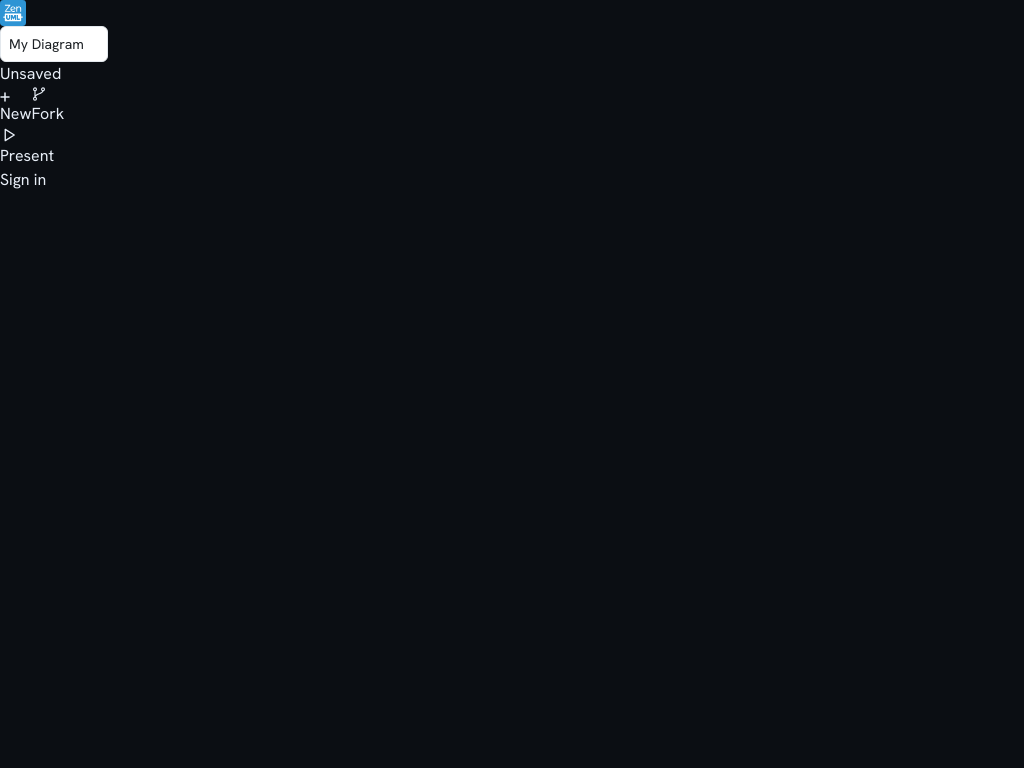
Test: AppHeader › cancel on the failed-save dialog keeps the diagram and a later New saves again (#952)
Click the button with test id "header-new": (16, 109) [0, 92, 31, 126]
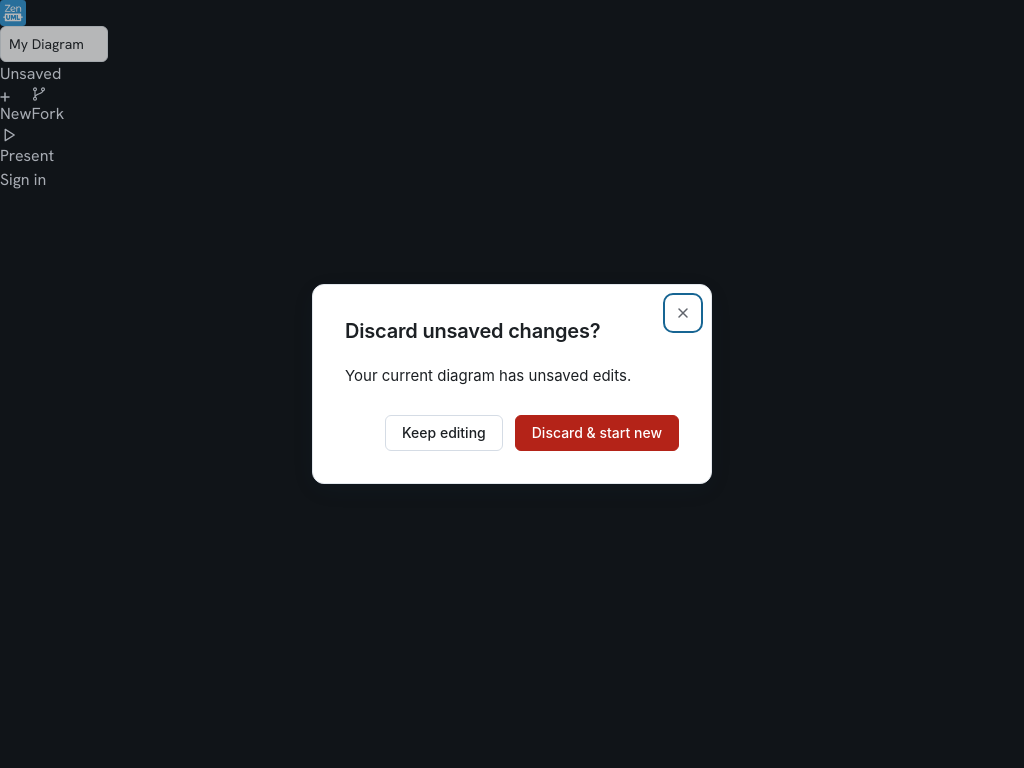
Click the button with test id "confirm-cancel": (444, 433) [385, 415, 503, 451]
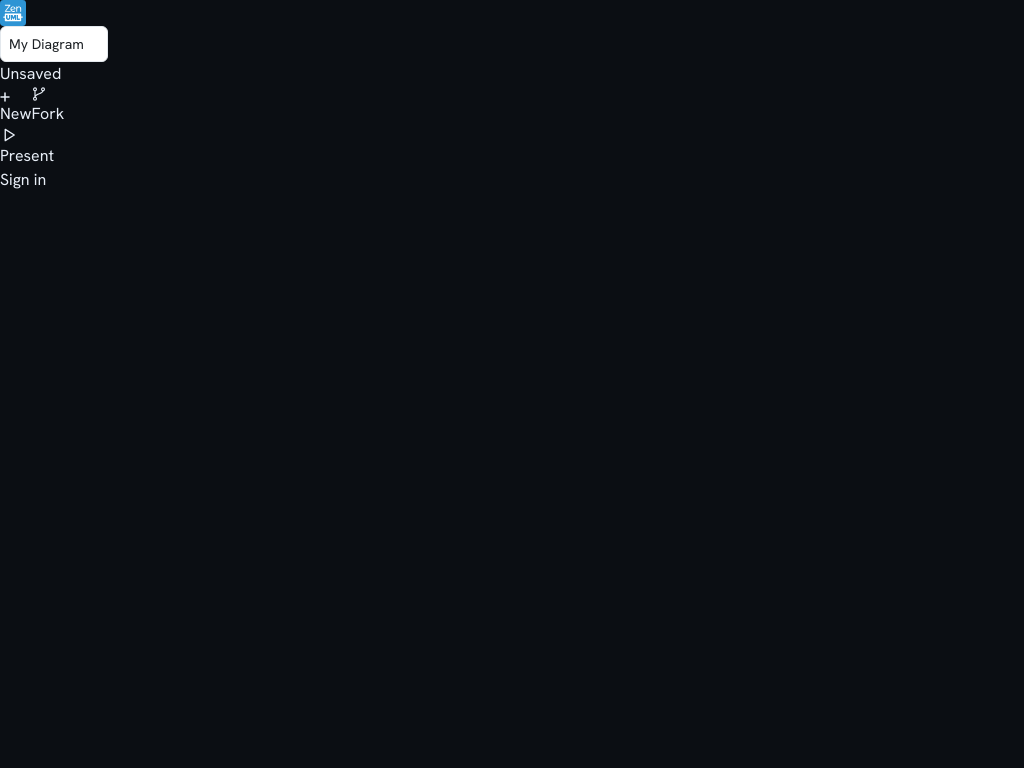
Click the button with test id "header-new": (16, 109) [0, 92, 31, 126]
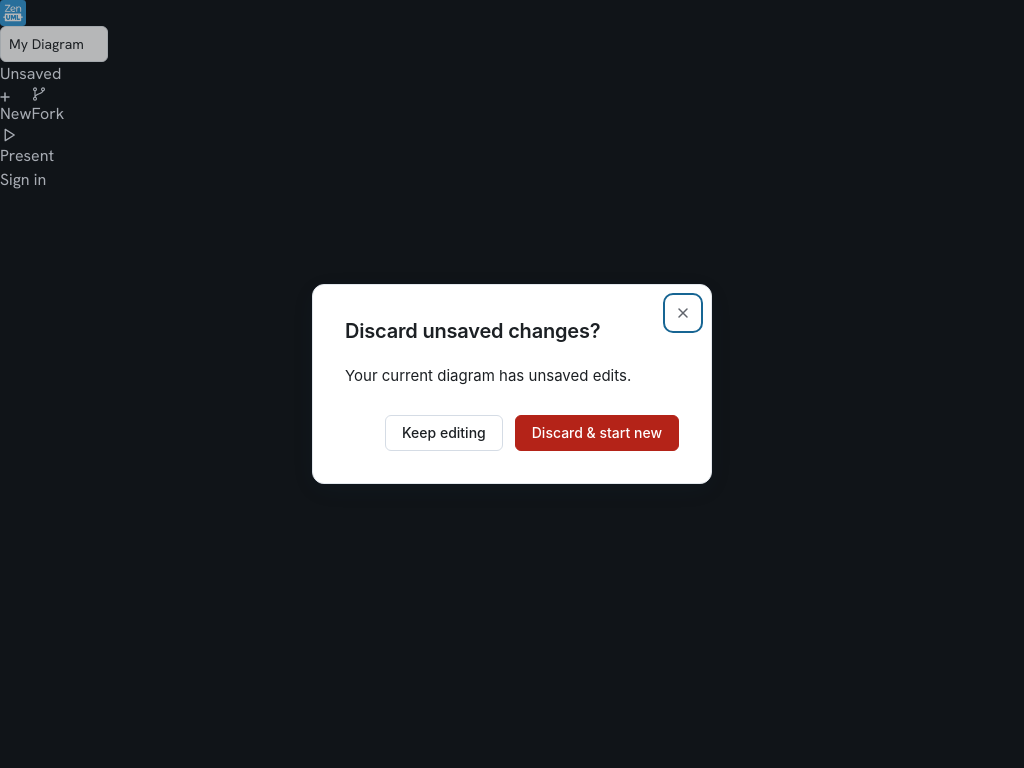
Expected: the dialog is shown, [312, 284, 712, 484]
